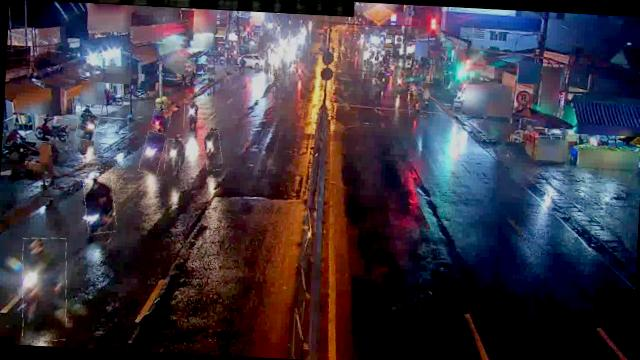Bike: (19, 237, 70, 340), (82, 175, 117, 234), (140, 130, 164, 174), (35, 116, 68, 144), (202, 131, 222, 170), (76, 112, 98, 140), (164, 138, 182, 170), (408, 91, 427, 117), (183, 102, 199, 127), (420, 82, 433, 110), (152, 108, 170, 127)
